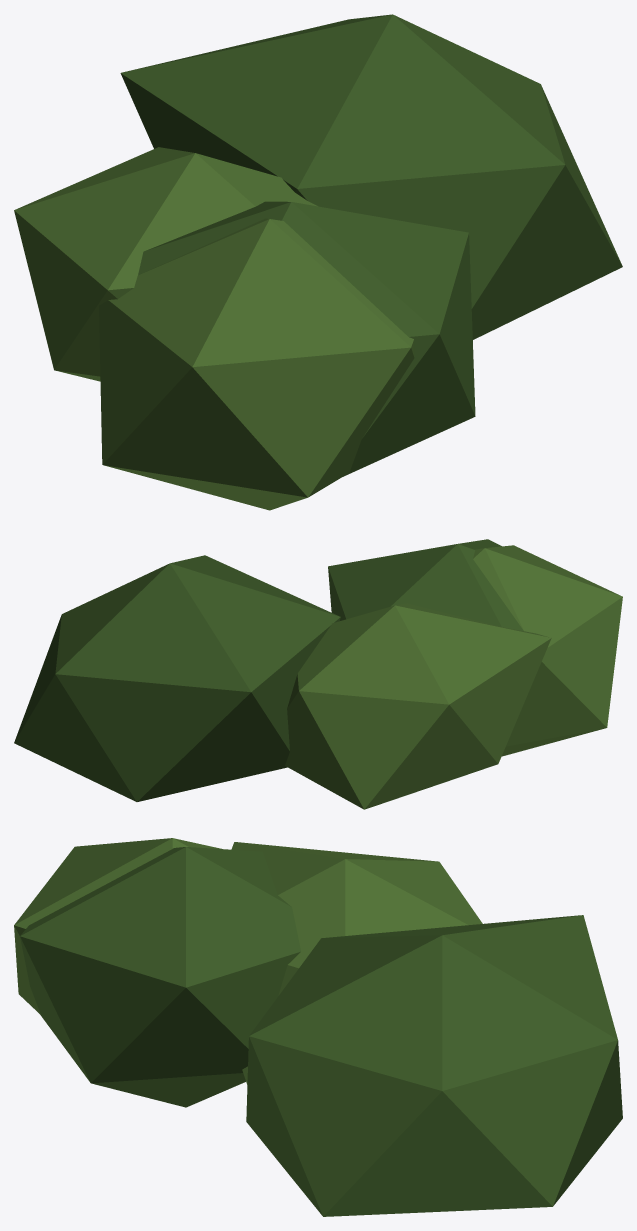
Rendered from bush1.glb.
3 views of the same model, one above another, from view 1: azimuth 30°, elevation 25°; view 2: azimuth 150°, elevation 25°; view 3: azimuth 270°, elevation 25° (orthographic). The views are drawn at different scales.
Visible parts, largest first — view 1: Tree; view 2: Tree; view 3: Tree.
Part boxes in pixels (bbox=[...]): Tree: bbox=[14, 14, 622, 510]; Tree: bbox=[14, 539, 622, 809]; Tree: bbox=[14, 838, 622, 1216].
Size of the model in its own units: 2 by 1 by 1.99.
